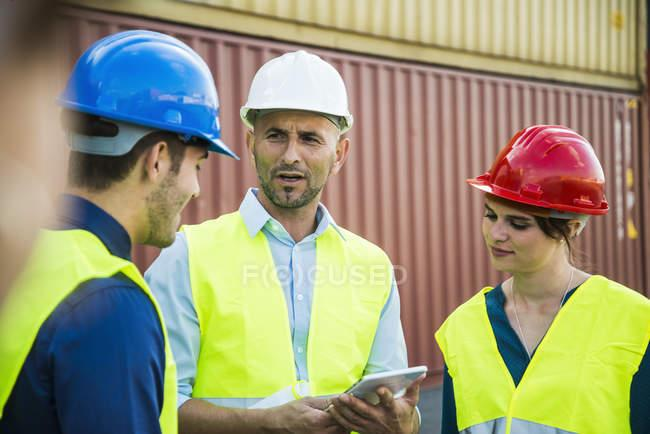helmet: (55, 32, 239, 158), (468, 123, 609, 218), (243, 51, 357, 131)
